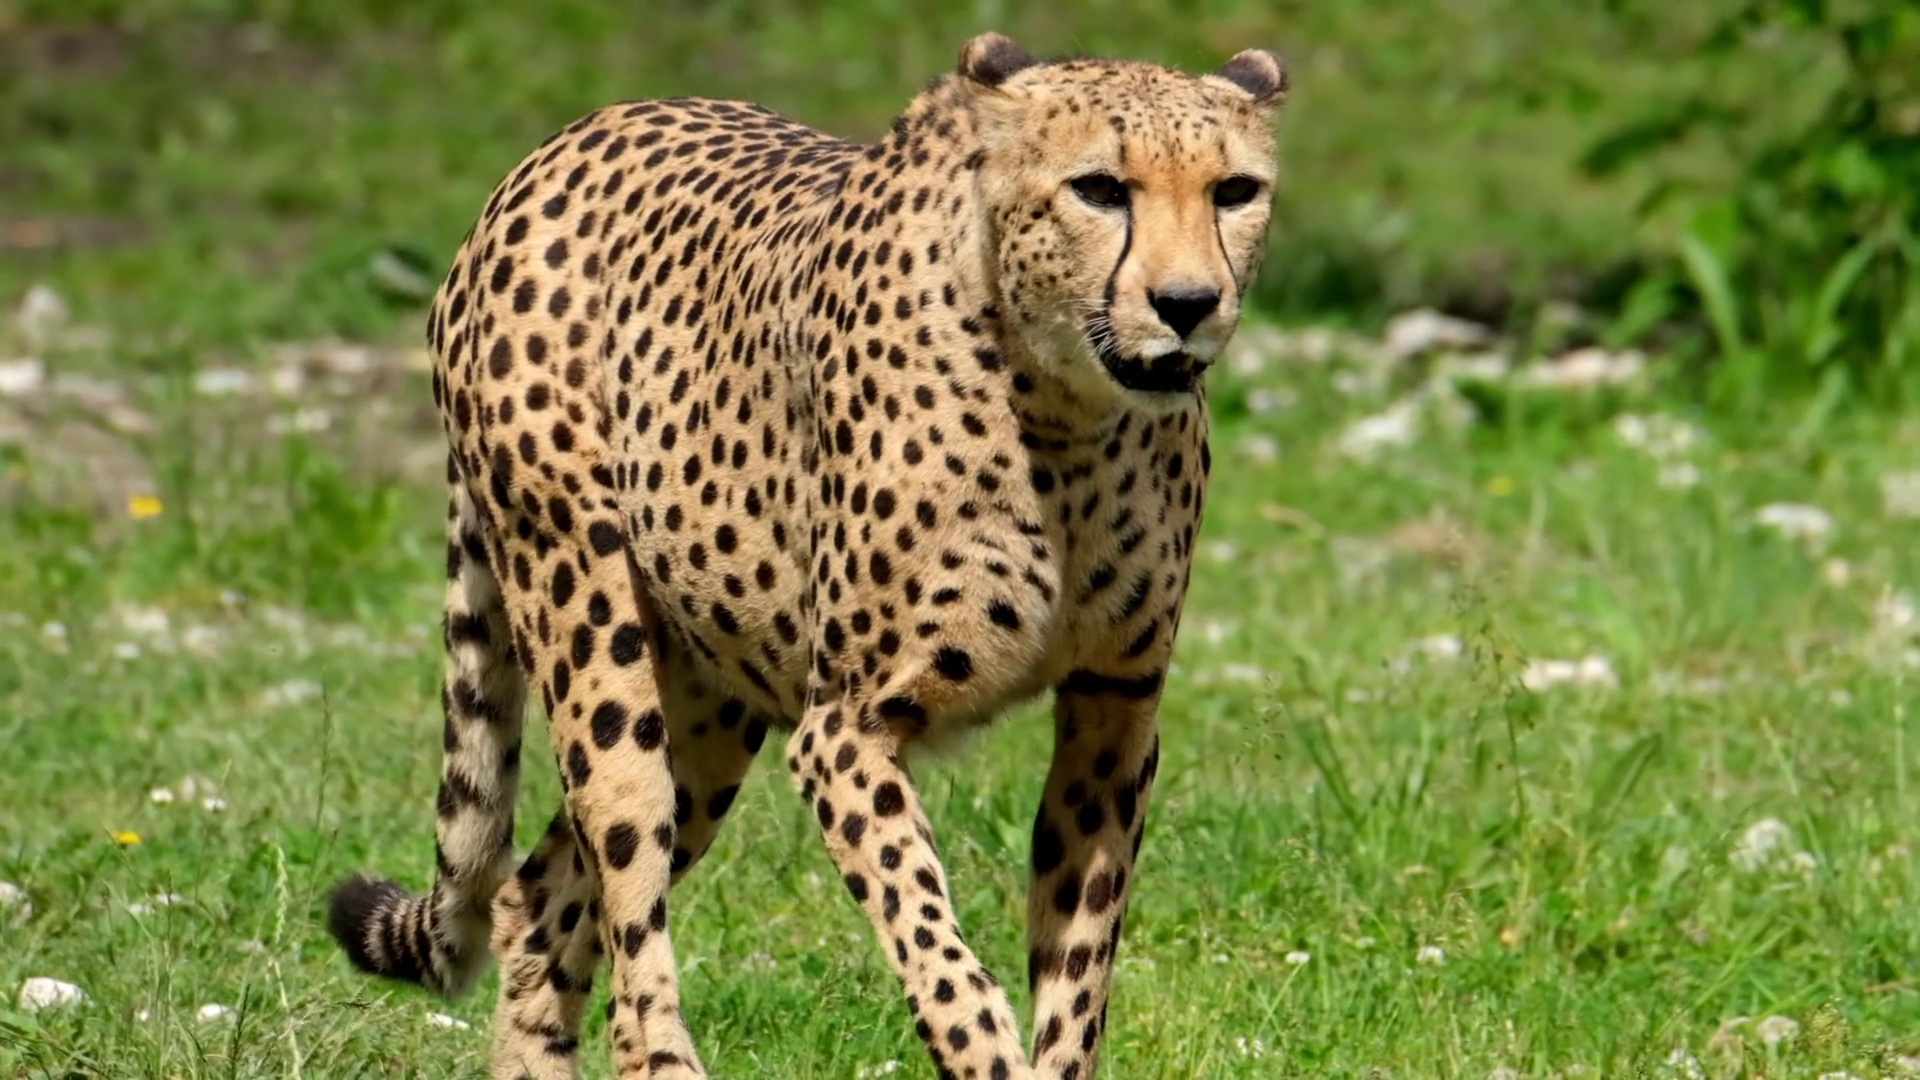Cheetah: (322, 28, 1295, 1080)
